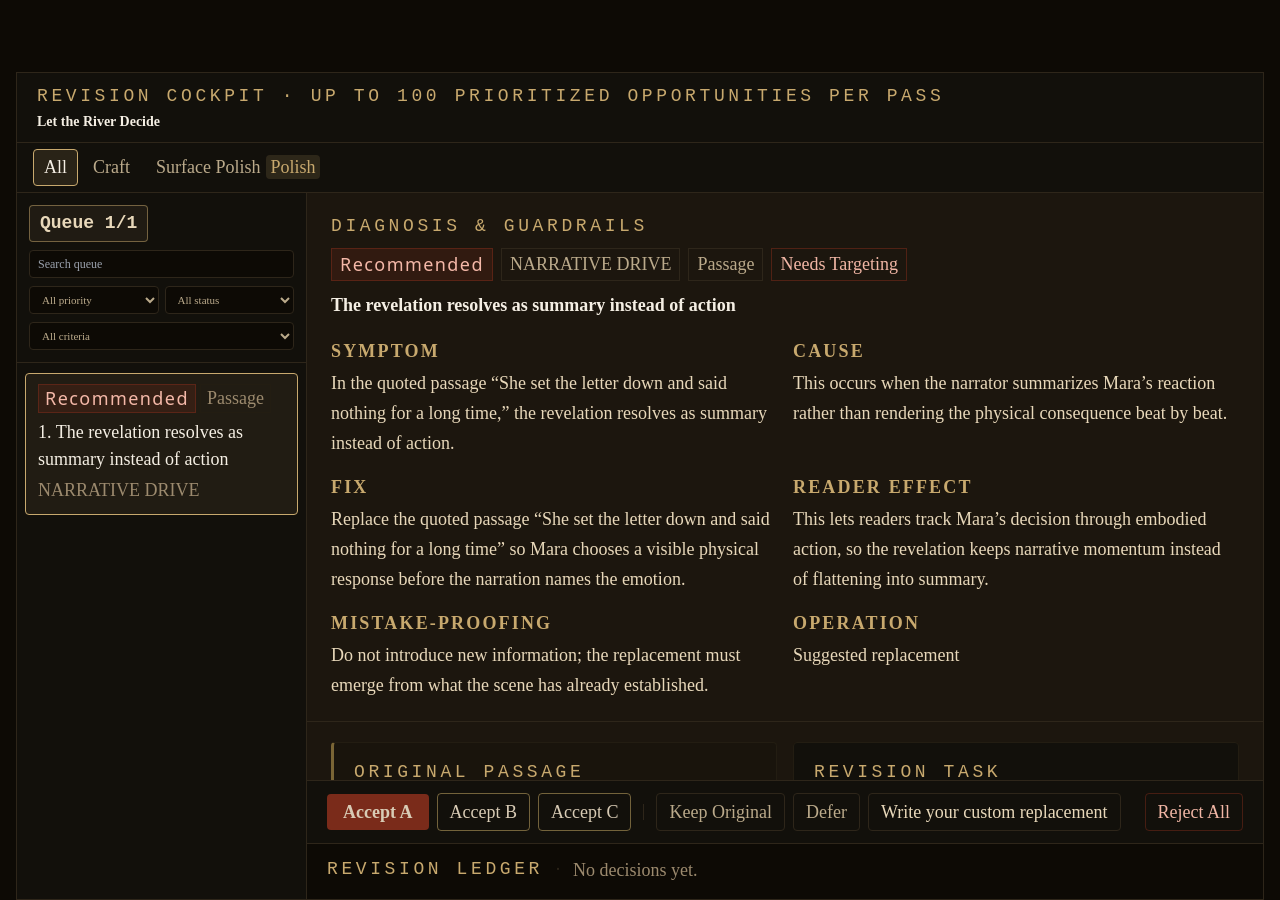
Test case: ReviseCockpitClientWorkflowV1 › keeps a pending local choice authoritative when mount rehydration finishes later
Step 1. Click the button "Keep Original" → (721,812), box [656,793,785,831]
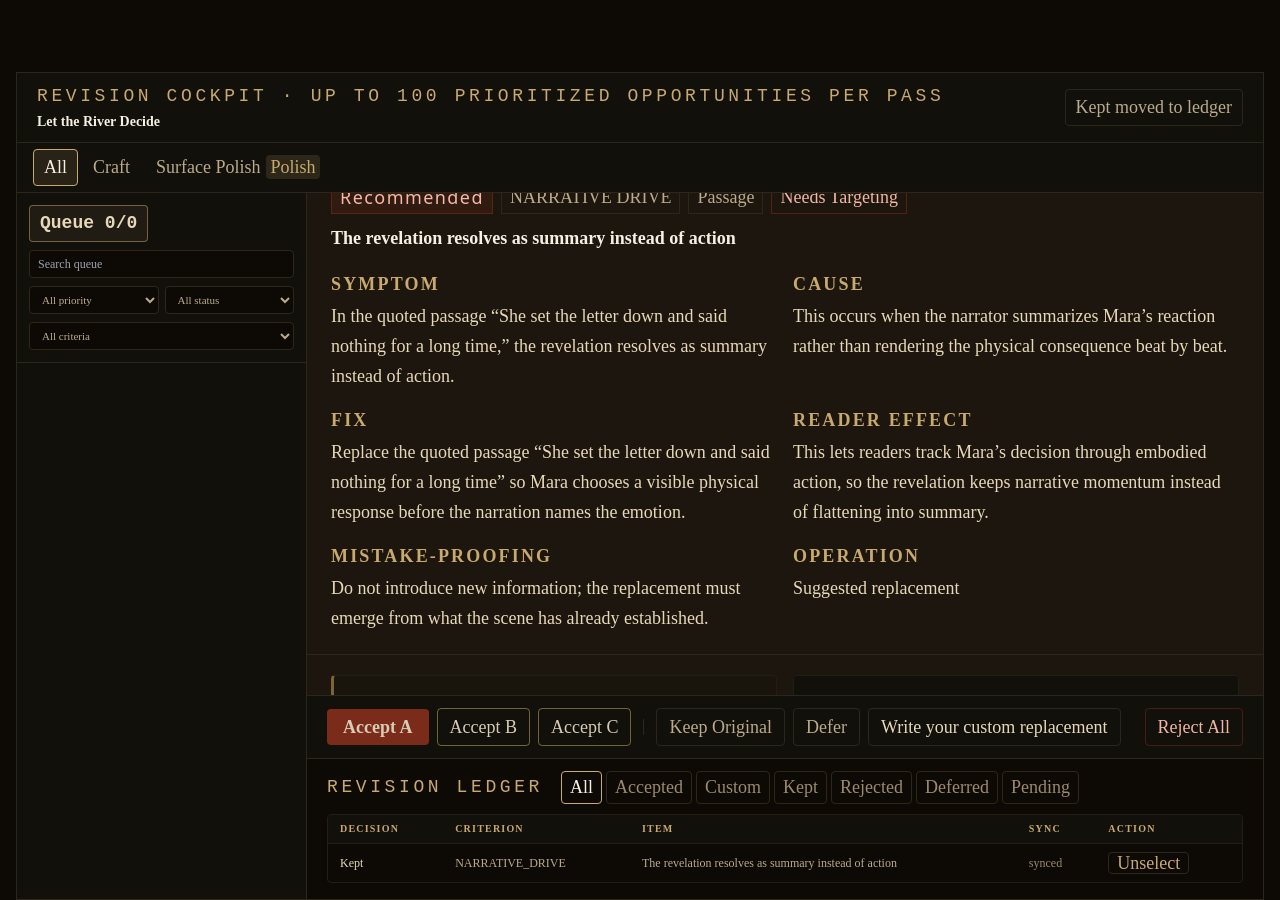
Expected: the cell "Kept" is shown, [328,843,443,882]
